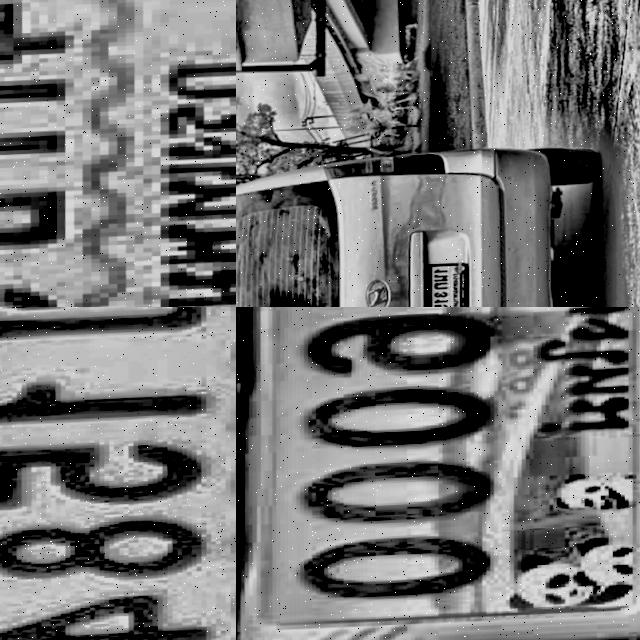license-plate: (236, 307, 640, 640), (0, 307, 236, 640), (0, 0, 236, 307), (425, 260, 476, 307)
